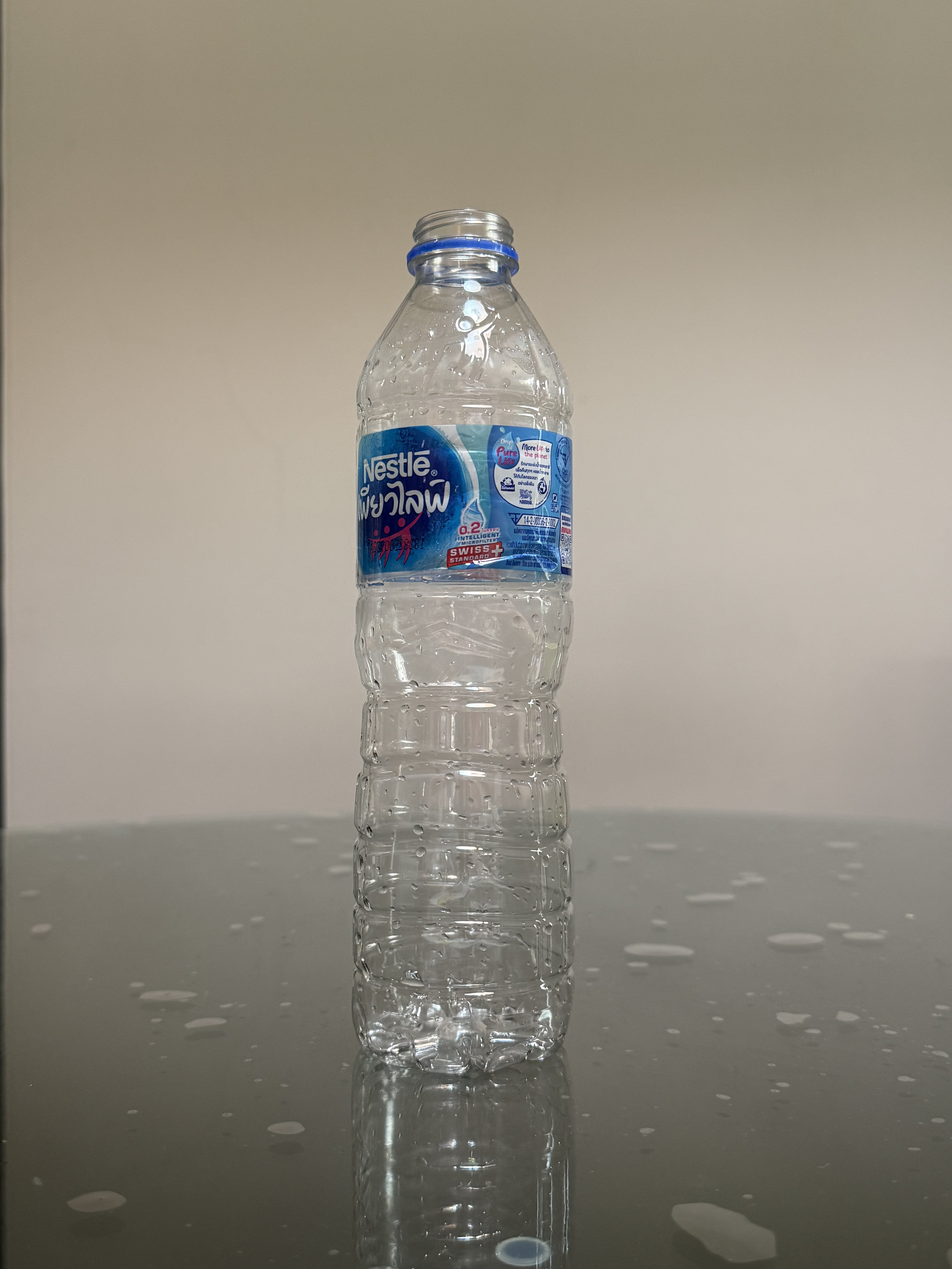no_cap: (405, 205, 519, 274)
